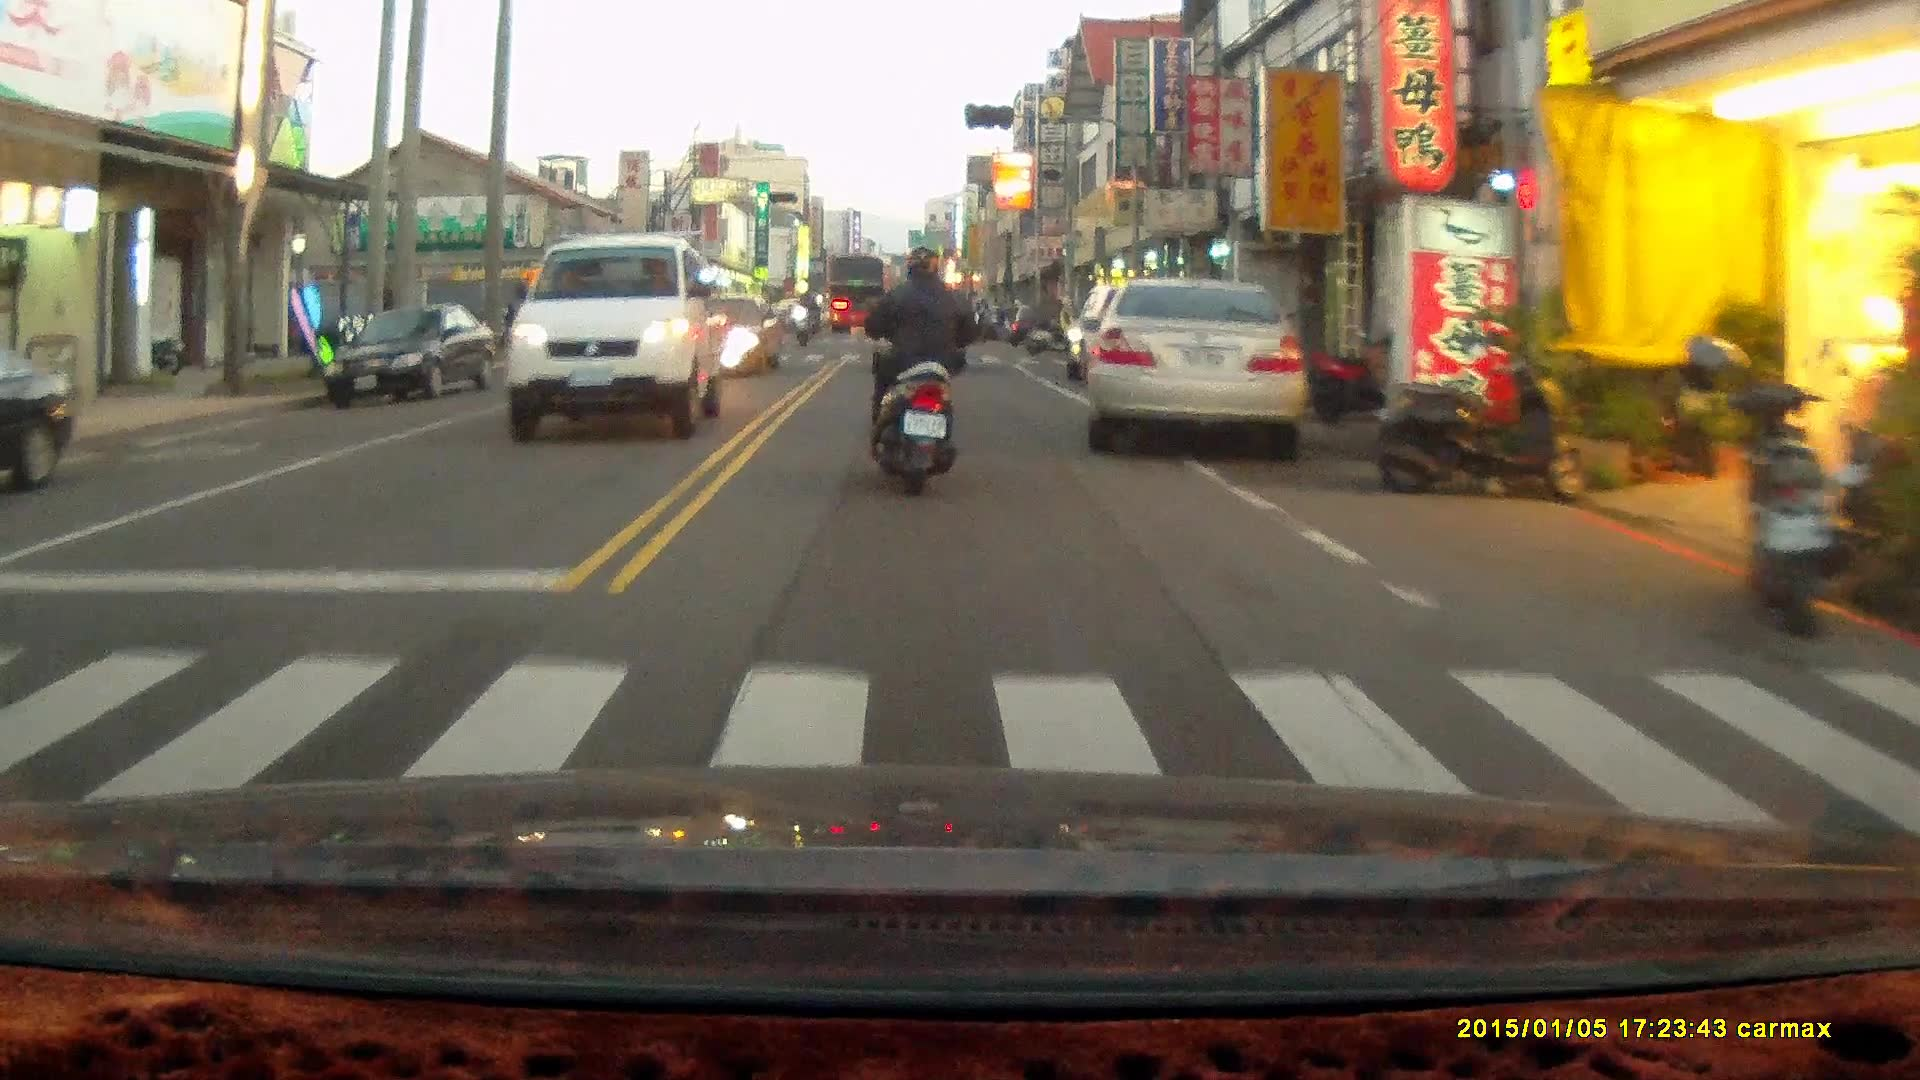rider: (860, 243, 980, 494)
vehicle: (502, 236, 719, 444), (1079, 274, 1310, 463), (323, 307, 495, 407), (1, 344, 79, 492), (824, 252, 887, 334)
